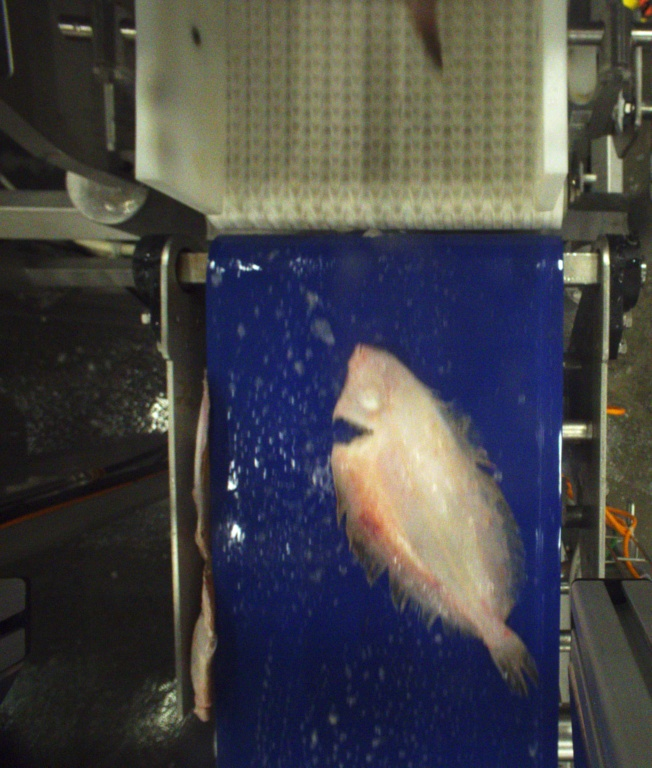WIT: (330, 339, 541, 695)
